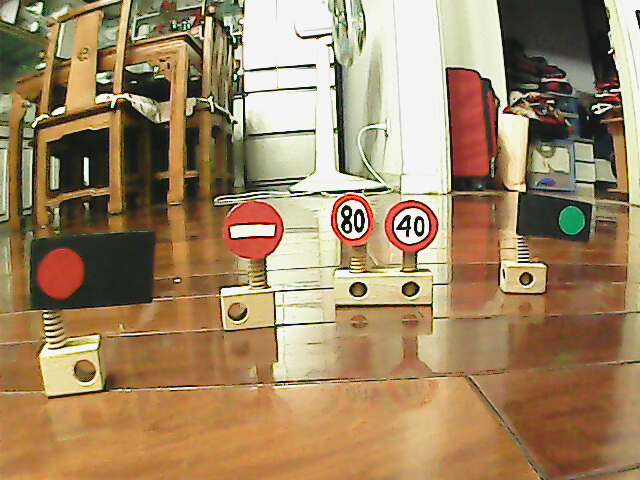Green Traffic Light: (551, 201, 591, 239)
Red Traffic Light: (31, 239, 96, 306)
Speed Limit 40: (382, 198, 441, 254)
Speed Limit 80: (329, 191, 375, 247)
Stop Sign: (221, 199, 286, 260)
